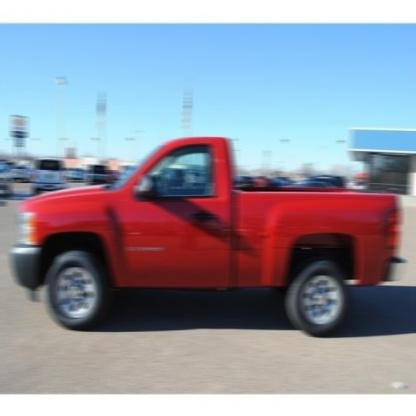Vehicle: (8, 132, 407, 339)
